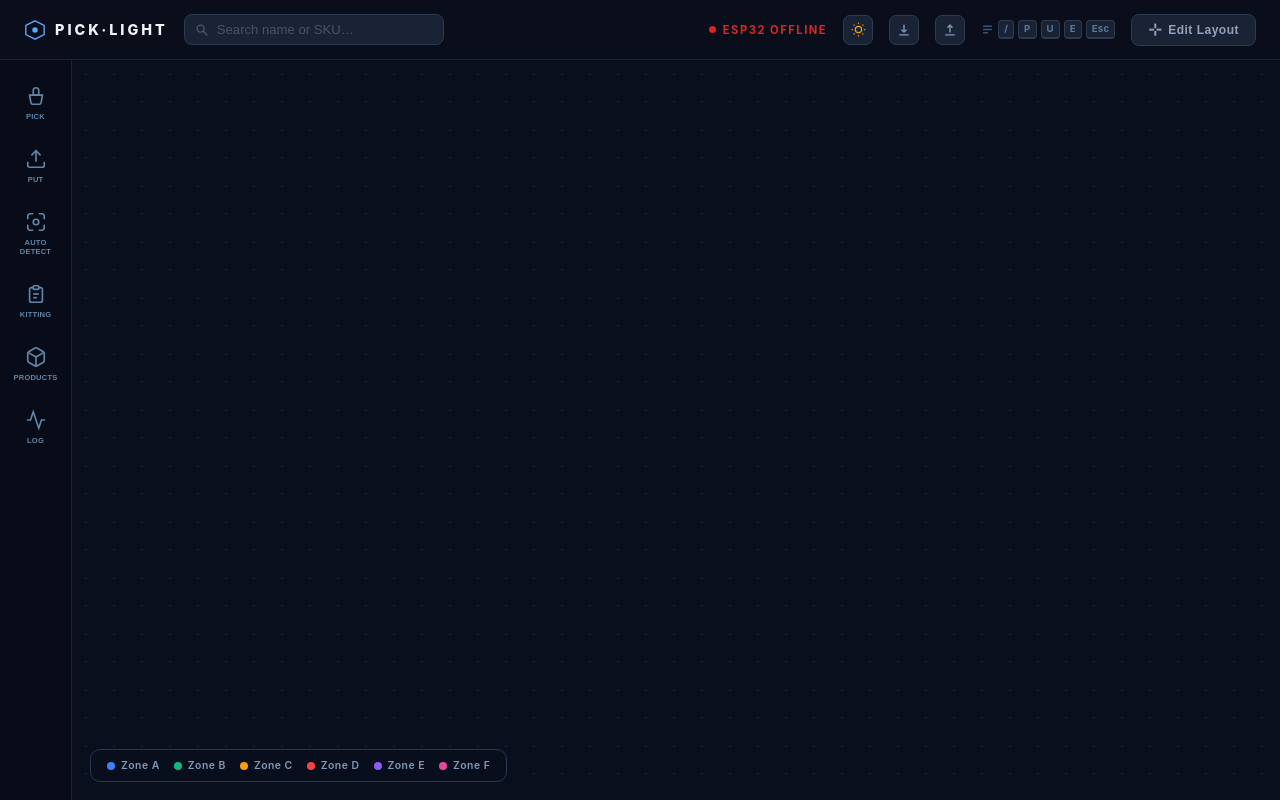
it: edit layout button toggles to done editing
The width and height of the screenshot is (1280, 800).
Step 1. Click the button "⊹ Edit Layout" → [1194, 30], box [1131,14,1256,46]
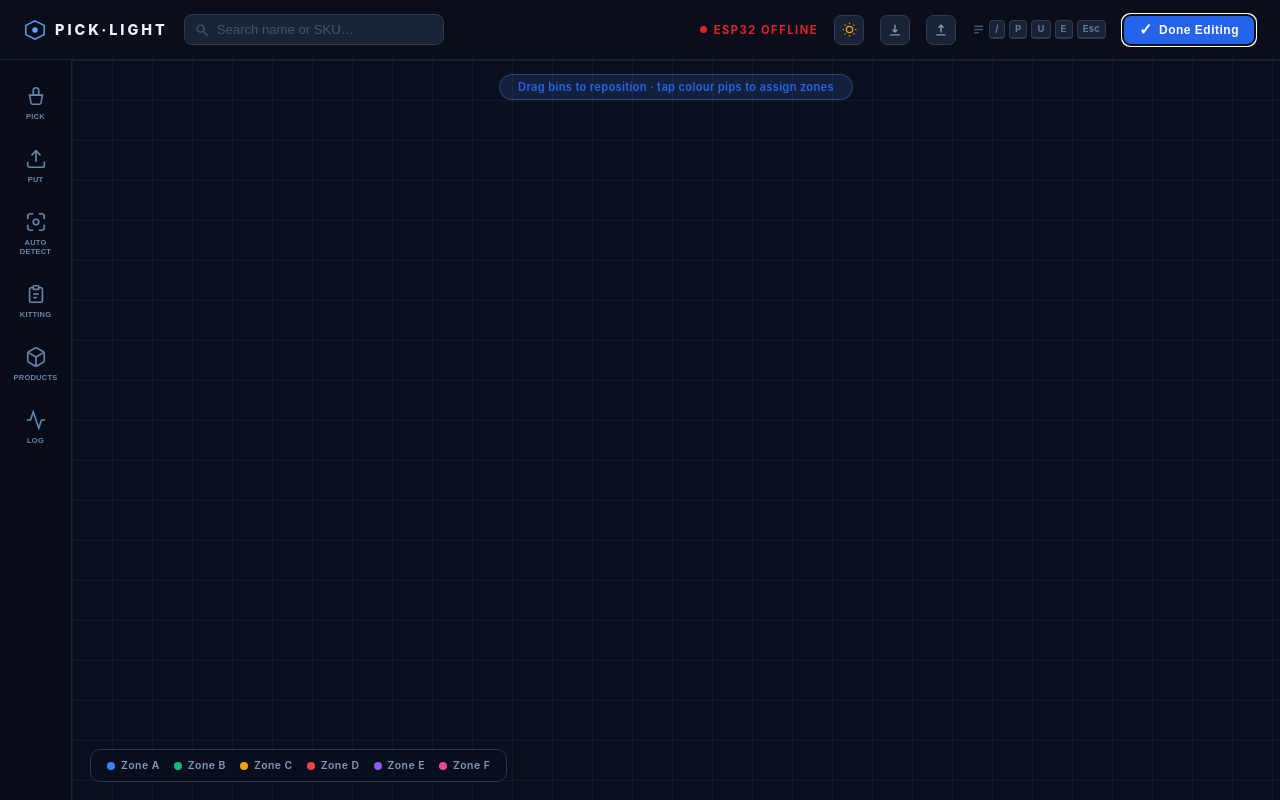
Now the button "✓ Done Editing" is shown, box [1122,14,1256,46]
